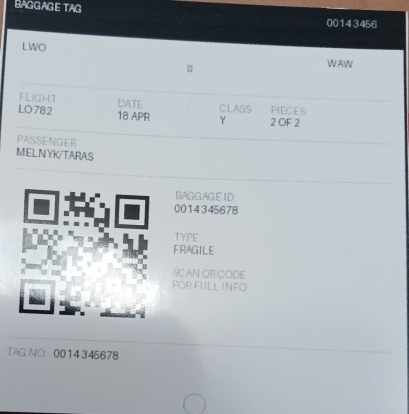LPN_bottom: (49, 343, 126, 365)
LPN_right: (167, 200, 247, 218)
